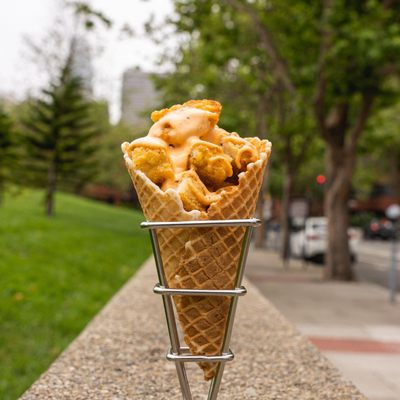soup: (120, 98, 273, 396)
